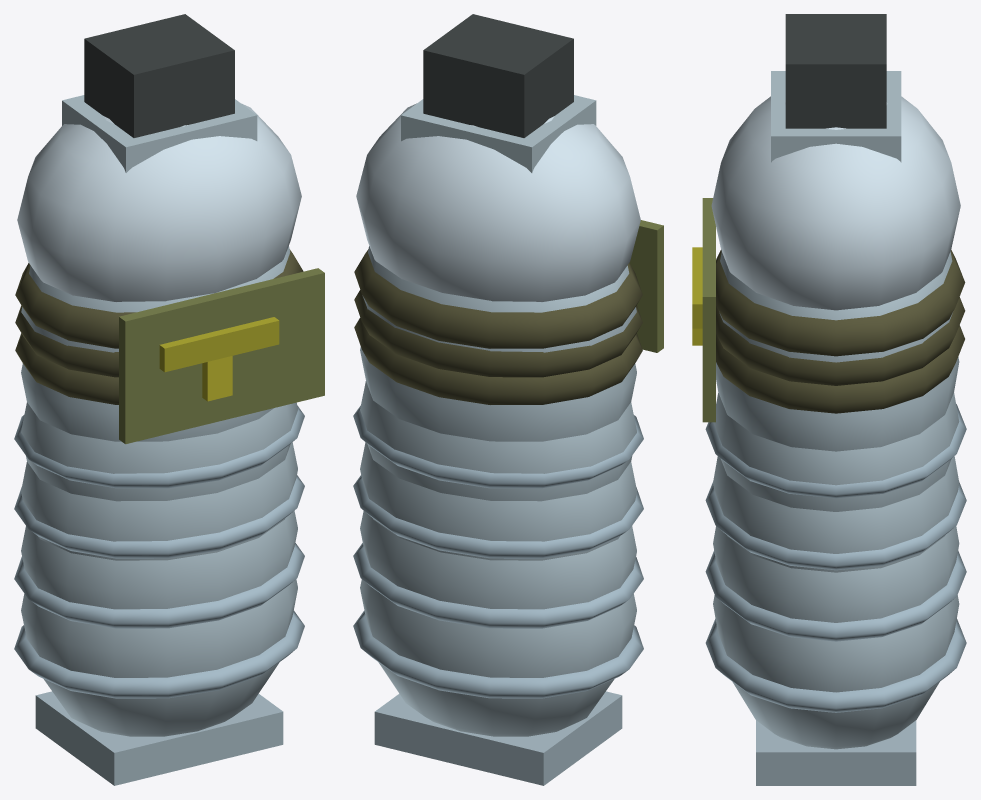
Rendered from CMU3DWeyaWaterBottle.glb.
3 renders of one model, left to right at view 1: azimuth 30°, elevation 25°; view 2: azimuth 150°, elevation 25°; view 3: azimuth 270°, elevation 25°, orthographic.
Visible parts, largest first — view 1: rounded bottle body (×6), bottle shoulder, flat label face, bottle molded rib (×4), black screw cap, bottle flat resting base, dark bottle label (×3), neck collar, yellow brand upper, yellow brand leg; view 2: rounded bottle body (×6), bottle shoulder, dark bottle label (×3), bottle molded rib (×4), black screw cap, bottle flat resting base, neck collar, flat label face; view 3: rounded bottle body (×6), bottle shoulder, dark bottle label (×3), bottle molded rib (×4), black screw cap, bottle flat resting base, neck collar, flat label face, yellow brand upper.
Boxes of the visible parts, x1=… form: rounded bottle body (×6): x1=21, y1=246, x2=297, y2=736; bottle shoulder: x1=17, y1=103, x2=301, y2=301; flat label face: x1=119, y1=268, x2=324, y2=444; bottle molded rib (×4): x1=14, y1=405, x2=304, y2=698; black screw cap: x1=84, y1=14, x2=234, y2=137; bottle flat resting base: x1=35, y1=691, x2=283, y2=785; dark bottle label (×3): x1=15, y1=249, x2=303, y2=404; neck collar: x1=62, y1=95, x2=257, y2=172; yellow brand upper: x1=159, y1=317, x2=279, y2=372; yellow brand leg: x1=202, y1=356, x2=232, y2=401; rounded bottle body (×6): x1=360, y1=246, x2=636, y2=736; bottle shoulder: x1=356, y1=103, x2=640, y2=301; dark bottle label (×3): x1=354, y1=249, x2=642, y2=404; bottle molded rib (×4): x1=353, y1=405, x2=643, y2=698; black screw cap: x1=423, y1=14, x2=573, y2=137; bottle flat resting base: x1=374, y1=691, x2=622, y2=785; neck collar: x1=401, y1=95, x2=596, y2=172; flat label face: x1=629, y1=220, x2=663, y2=352; rounded bottle body (×6): x1=713, y1=251, x2=959, y2=749; bottle shoulder: x1=711, y1=96, x2=960, y2=310; dark bottle label (×3): x1=716, y1=250, x2=965, y2=413; bottle molded rib (×4): x1=705, y1=404, x2=966, y2=712; black screw cap: x1=785, y1=14, x2=886, y2=128; bottle flat resting base: x1=756, y1=720, x2=916, y2=785; neck collar: x1=771, y1=71, x2=901, y2=162; flat label face: x1=702, y1=198, x2=715, y2=422; yellow brand upper: x1=692, y1=247, x2=702, y2=328.
Bounding box in the file's own units: 0.2074 × 0.524 × 0.185.
